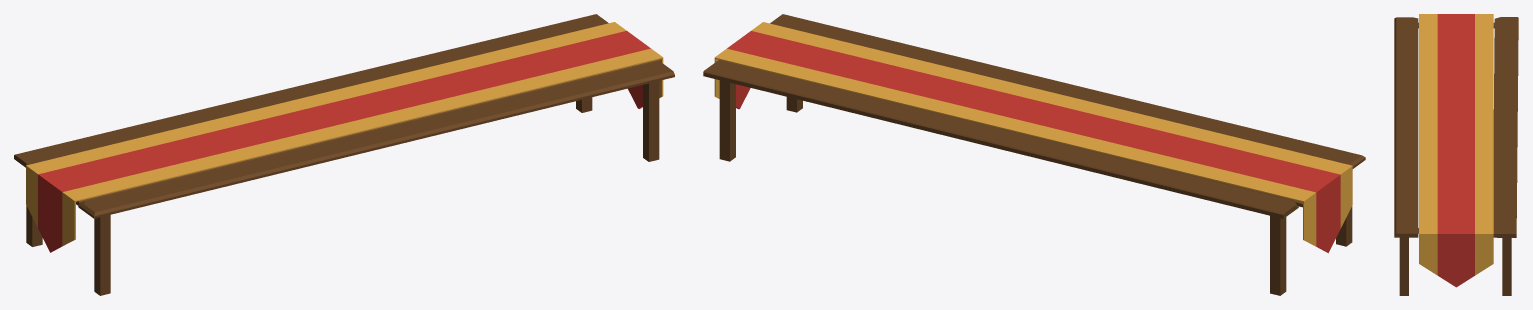
The model's file is GTable.fbx.
The picture shows the model from 3 angles, left to right: view 1: azimuth 30°, elevation 25°; view 2: azimuth 150°, elevation 25°; view 3: azimuth 270°, elevation 25°; orthographic projection. The views are drawn at different scales.
Visible parts, largest first — view 1: Gtable_1; view 2: Gtable_1; view 3: Gtable_1.
Boxes of the visible parts, x1,y1,x2,y2 form: Gtable_1: (14, 14, 674, 295); Gtable_1: (703, 14, 1365, 295); Gtable_1: (1394, 14, 1518, 295).
Size of the model in its own units: 386 by 55.61 by 92.05.
